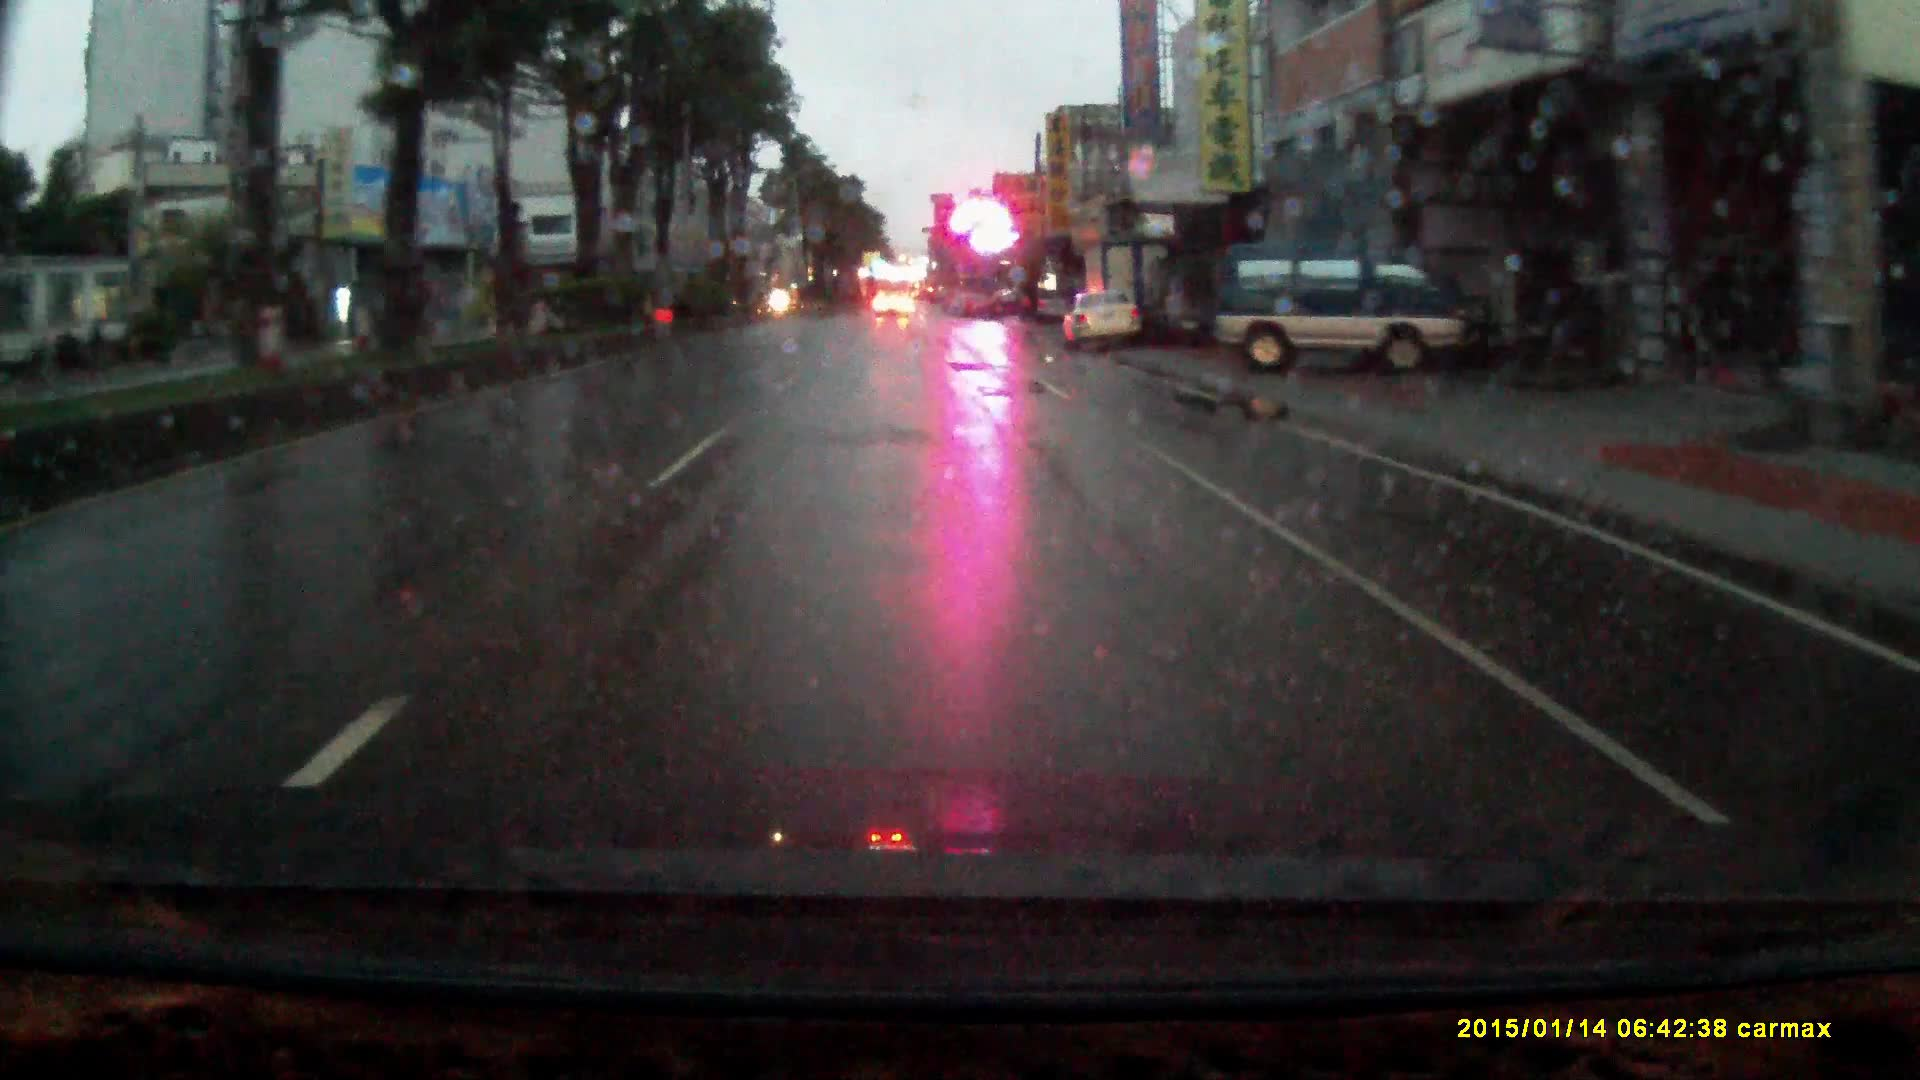vehicle: (1211, 241, 1486, 384), (1080, 243, 1176, 353), (1062, 287, 1145, 357), (876, 287, 913, 320)
